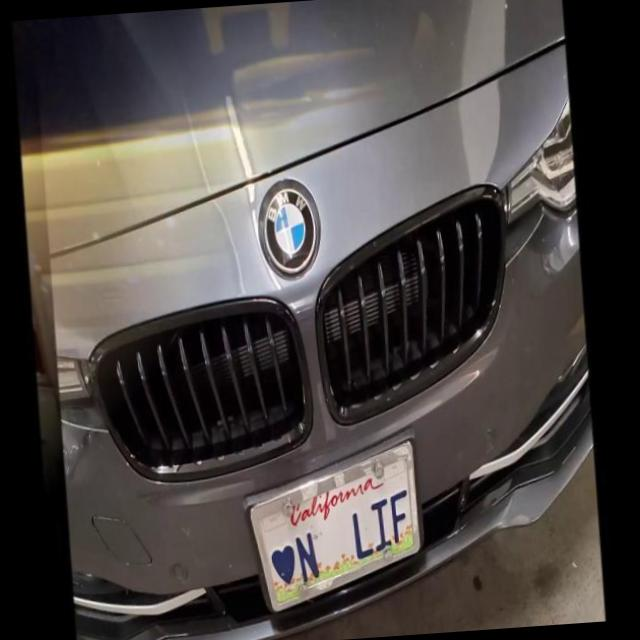LicensePlate: (232, 423, 448, 633)
